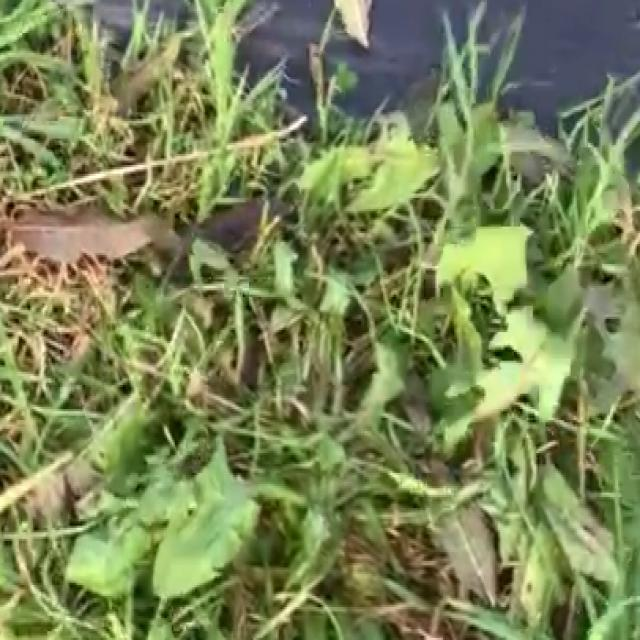organic waste: (332, 152, 578, 433)
